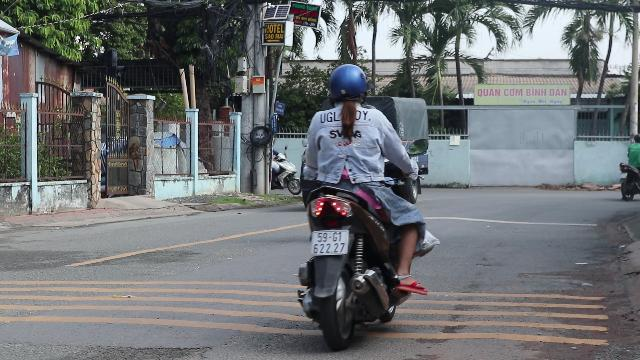helmet: (326, 63, 368, 105)
licenseplate: (312, 231, 348, 255)
motorcyclist: (292, 62, 436, 346)
